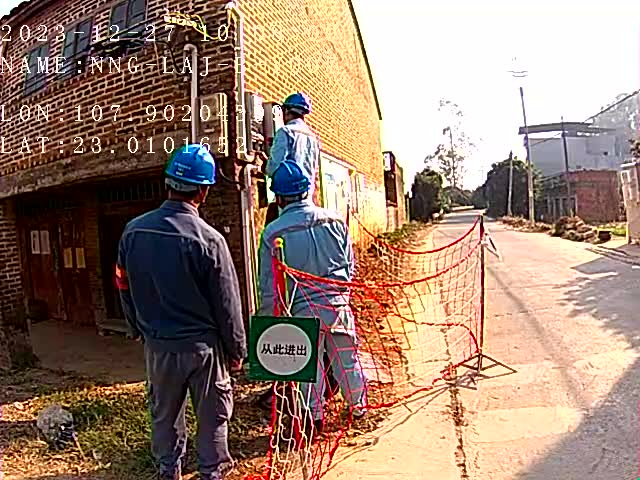badge: (113, 266, 126, 289)
downsuit: (146, 348, 225, 478), (288, 301, 368, 410)
halt: (164, 144, 219, 194), (268, 160, 309, 206), (277, 93, 313, 125)
hand: (230, 359, 246, 369)
intosign: (247, 314, 322, 390)
person: (115, 140, 254, 480), (253, 90, 373, 416)
upsuit: (121, 203, 250, 348), (259, 203, 352, 293), (270, 121, 318, 194)
